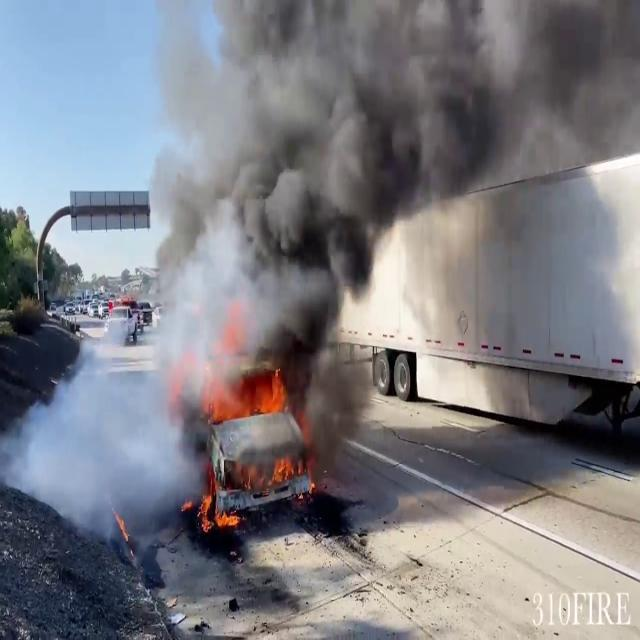Fire: (193, 355, 324, 543)
Smoke: (132, 0, 640, 393), (1, 320, 209, 546)
